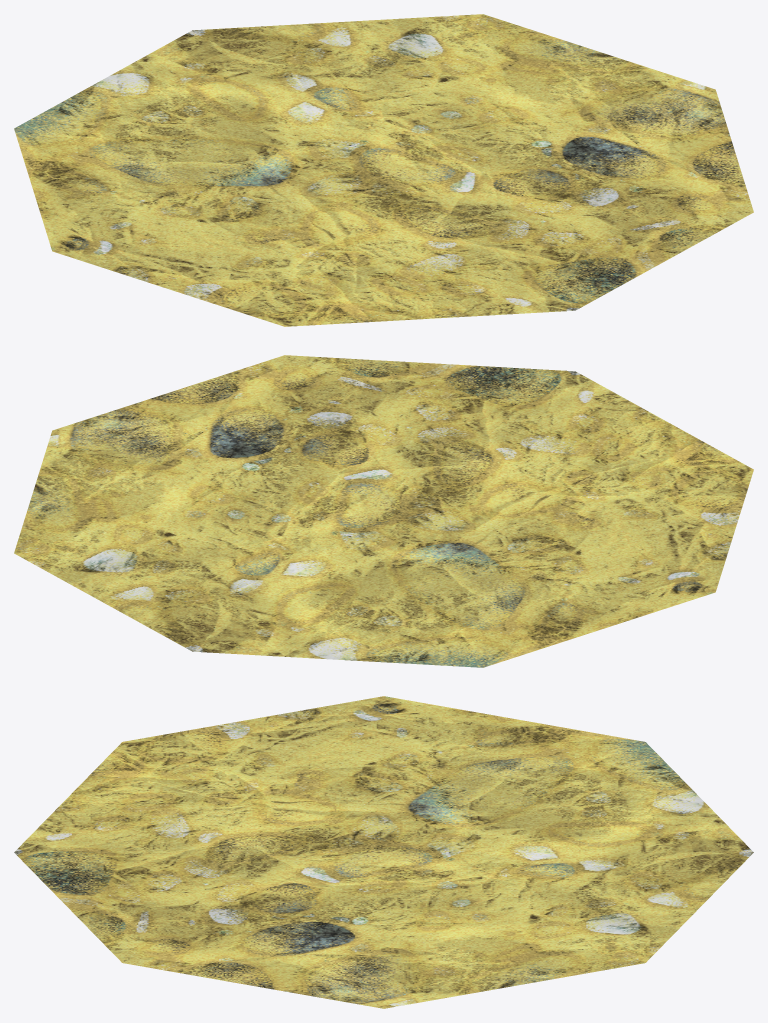
File: groundPlaneMesh.FBX
The picture shows the model from 3 angles, top to bottom: view 1: azimuth 30°, elevation 25°; view 2: azimuth 150°, elevation 25°; view 3: azimuth 270°, elevation 25°; orthographic projection. The views are drawn at different scales.
Visible parts, largest first — view 1: groundPlaneMesh; view 2: groundPlaneMesh; view 3: groundPlaneMesh.
Boxes of the visible parts, x1=… form: groundPlaneMesh: x1=14, y1=14, x2=753, y2=326; groundPlaneMesh: x1=14, y1=355, x2=753, y2=667; groundPlaneMesh: x1=14, y1=696, x2=753, y2=1008.
Bounding box in the file's own units: 986 × 986 × 0.
1 material, 1 textured.
